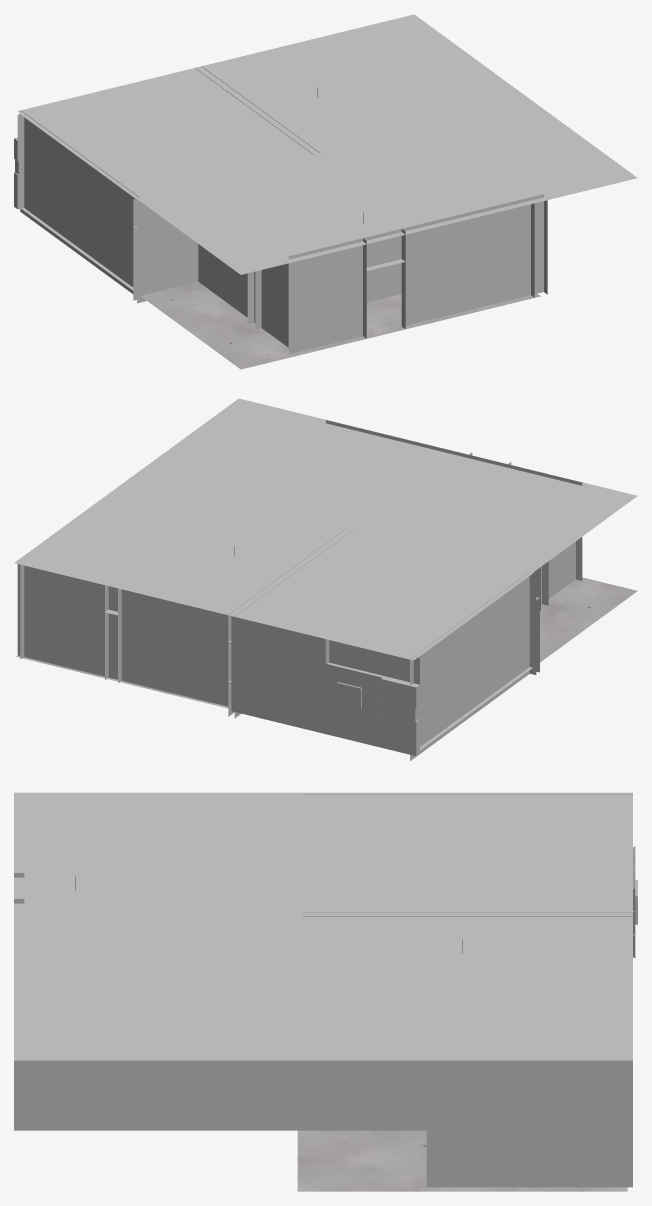
Rendered from cont1_035.fbx.
3 views of the same model, one above another, from view 1: azimuth 30°, elevation 25°; view 2: azimuth 150°, elevation 25°; view 3: azimuth 270°, elevation 25° (orthographic). The views are drawn at different scales.
Visible parts, largest first — view 1: concretefloor, white, pdwall, metal; view 2: concretefloor, pdwall, white, metal, crtrec; view 3: concretefloor, white, metal, pdwall.
Boxes of the visible parts, x1,y1,x2,y2 form: concretefloor: (17, 14, 637, 274); white: (137, 66, 547, 353); pdwall: (14, 67, 313, 300); metal: (133, 225, 540, 369); concretefloor: (14, 398, 637, 660); pdwall: (231, 529, 536, 760); white: (17, 420, 582, 716); metal: (16, 577, 637, 708); crtrec: (318, 662, 381, 727); concretefloor: (14, 792, 632, 1060); white: (14, 873, 632, 1187); metal: (297, 1130, 627, 1191); pdwall: (303, 794, 637, 924).
Size of the model in its own units: 19.84 by 5.3 by 19.36.
